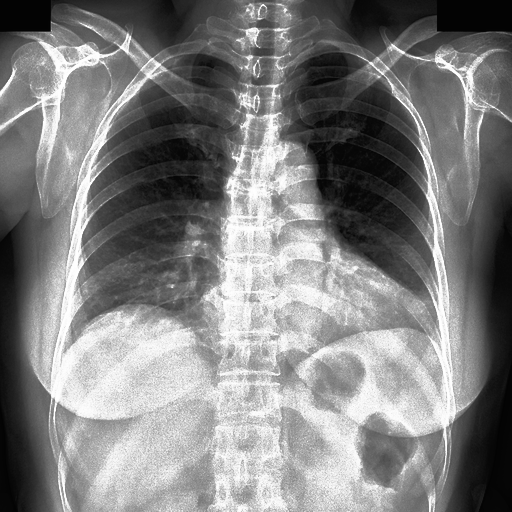Consolidation: (260, 141, 320, 200)
Nodule/Mass: (194, 275, 431, 354)
